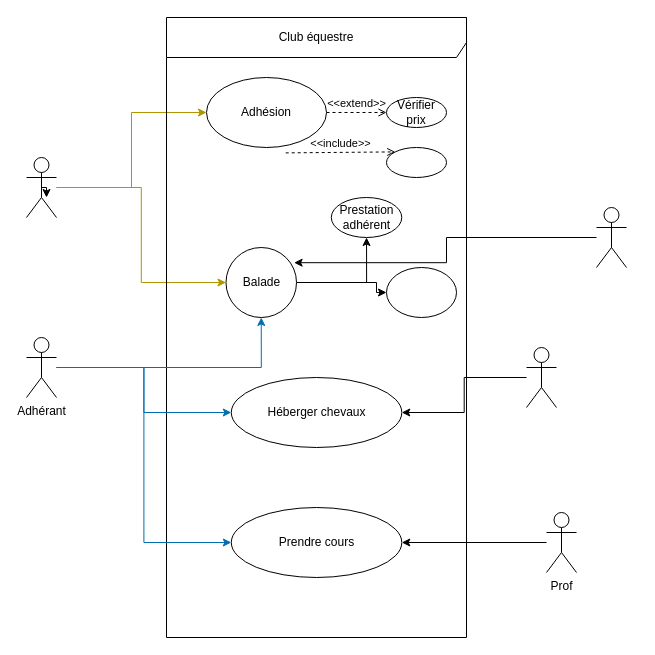
Image size: 655x655. Some labels were removed from this diagram. Here are the shapes that lost their labels. From the top down, the centre of each, then its label:
At (x=416, y=162): "Payer".
At (x=41, y=187): "Client".
At (x=611, y=237): "animateur".
At (x=421, y=292): "Prestation client".
At (x=541, y=377): "gardien chevaux".
